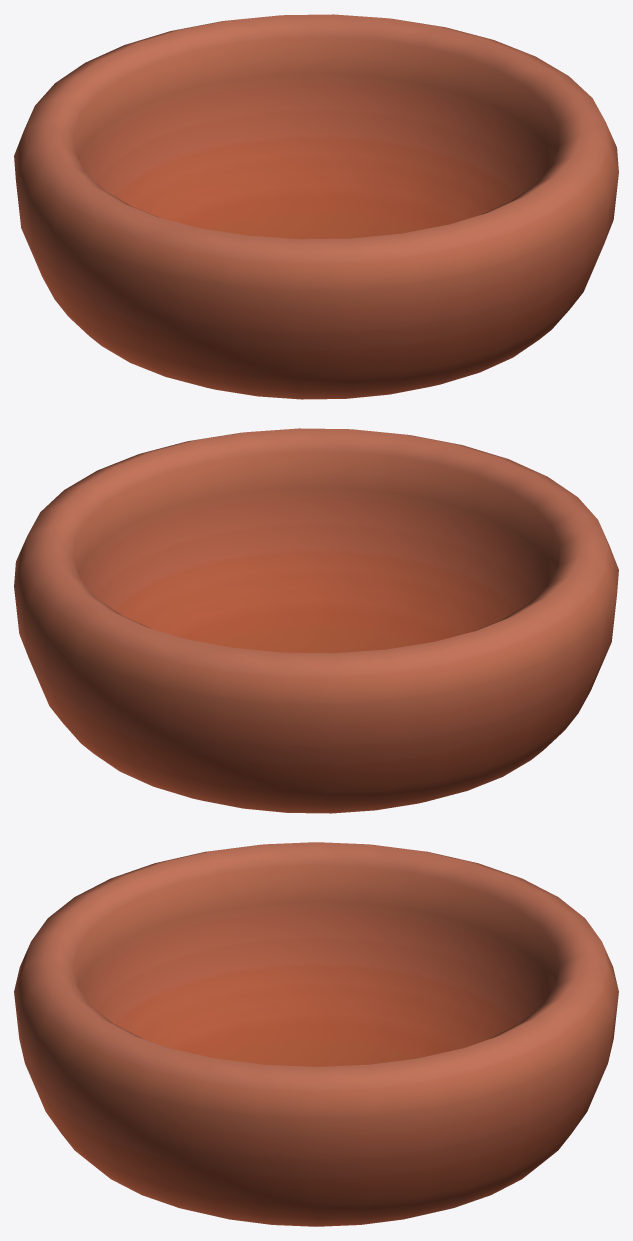
Rendered from Bowl_03.glb.
The picture shows the model from 3 angles, top to bottom: view 1: azimuth 30°, elevation 25°; view 2: azimuth 150°, elevation 25°; view 3: azimuth 270°, elevation 25°; orthographic projection.
Parts seen in each view (by area): view 1: Bowl_03; view 2: Bowl_03; view 3: Bowl_03.
Boxes of the visible parts, left/top/right/bottom form: Bowl_03: left=14, top=14, right=618, bottom=399; Bowl_03: left=14, top=428, right=618, bottom=813; Bowl_03: left=14, top=842, right=618, bottom=1226.
Size of the model in its own units: 0.3108 by 0.1019 by 0.3108.
Materials: 1 (1 with a texture image).
